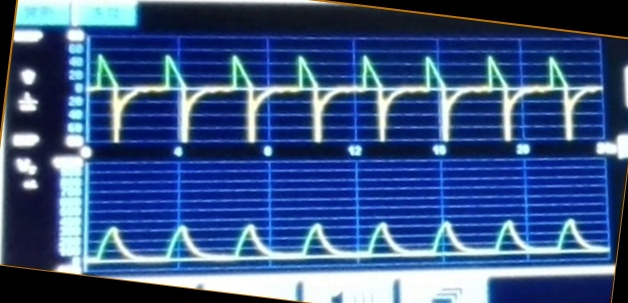Normal Flow: (91, 46, 603, 147)
Normal Volume: (87, 203, 611, 262)
